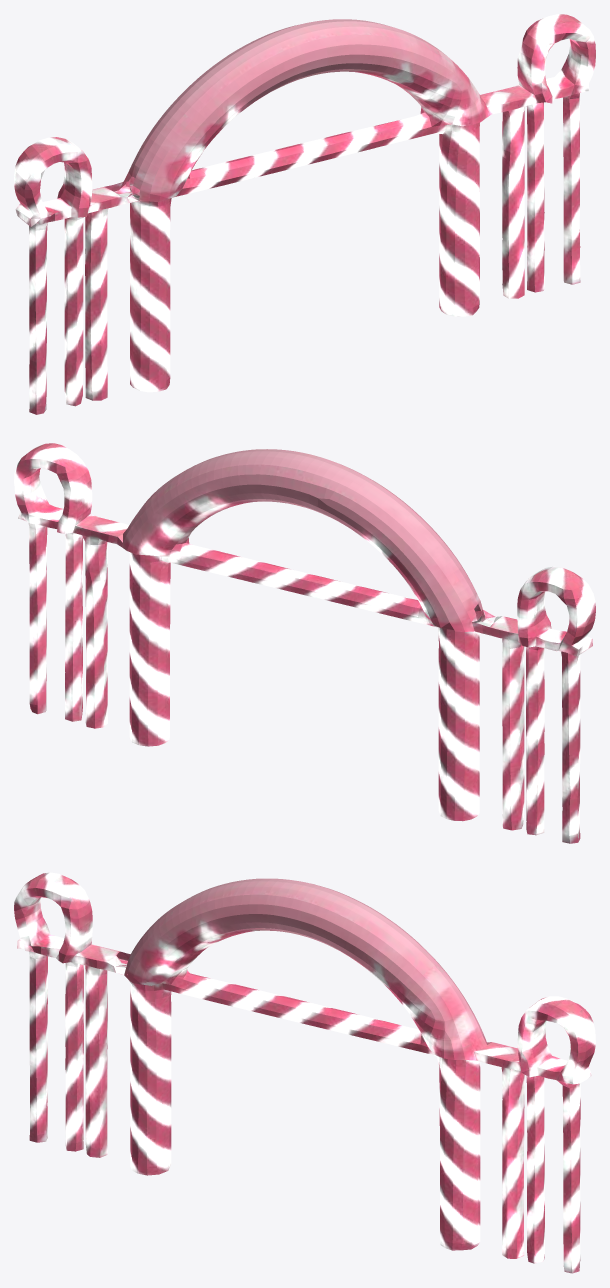
File: barrier_top.glb
3 renders of one model, top to bottom at view 1: azimuth 30°, elevation 25°; view 2: azimuth 150°, elevation 25°; view 3: azimuth 330°, elevation 25°, orthographic.
Visible parts, largest first — view 1: Mesh_0; view 2: Mesh_0; view 3: Mesh_0.
Boxes of the visible parts, <box> form: Mesh_0: <box>14,14,595,414</box>; Mesh_0: <box>14,443,595,843</box>; Mesh_0: <box>14,872,595,1273</box>.
Bounding box in the file's own units: 1.91 × 1.02 × 0.1665.
1 material, 1 textured.
